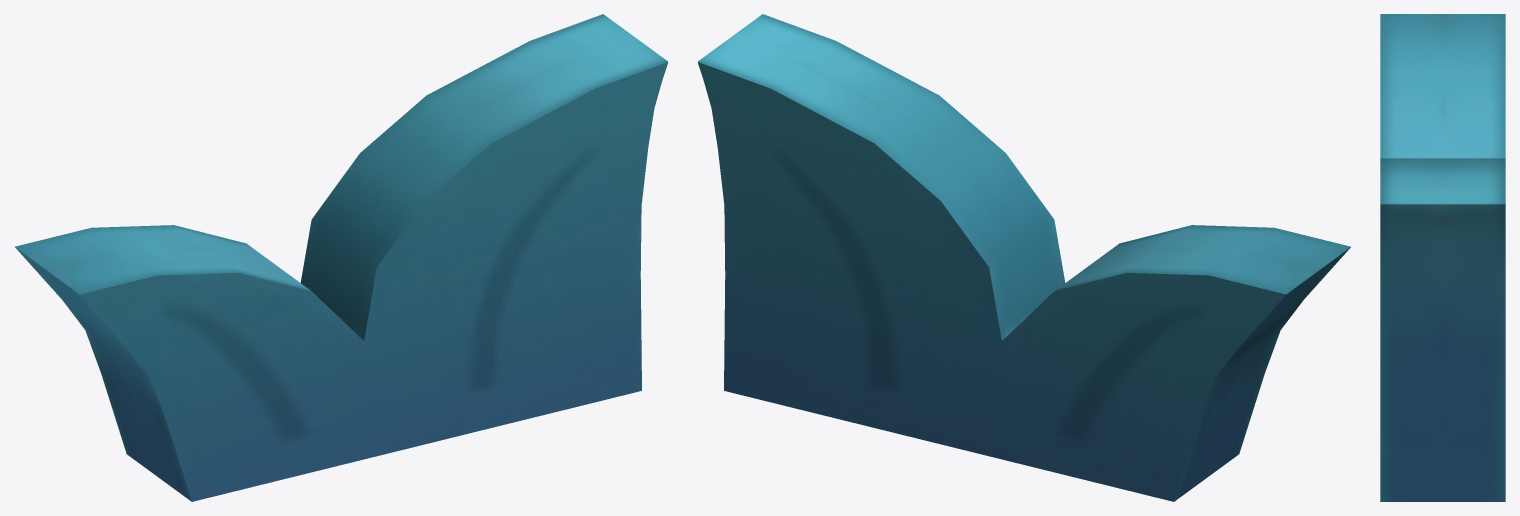
The model's file is 宝宝巴士-主框架-推送地图-过家家-草04.FBX.
The picture shows the model from 3 angles, left to right: view 1: azimuth 30°, elevation 25°; view 2: azimuth 150°, elevation 25°; view 3: azimuth 270°, elevation 25°; orthographic projection. The views are drawn at different scales.
Parts seen in each view (by area): view 1: 宝宝巴士-主框架-推送地图-过家家-草04; view 2: 宝宝巴士-主框架-推送地图-过家家-草04; view 3: 宝宝巴士-主框架-推送地图-过家家-草04.
Boxes of the visible parts, bbox=[...] form: 宝宝巴士-主框架-推送地图-过家家-草04: bbox=[15, 14, 668, 501]; 宝宝巴士-主框架-推送地图-过家家-草04: bbox=[697, 14, 1350, 501]; 宝宝巴士-主框架-推送地图-过家家-草04: bbox=[1380, 14, 1505, 501].
Bounding box in the file's own units: 43.53 × 22.89 × 8.36.
